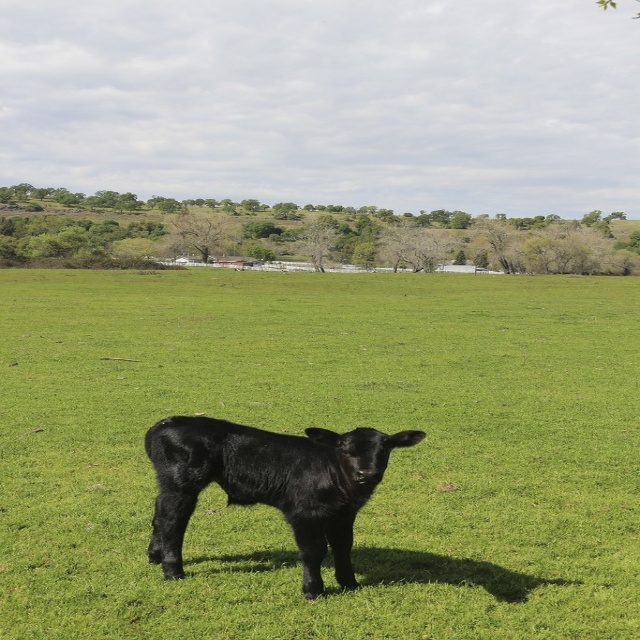Cattle: (154, 413, 419, 592)
